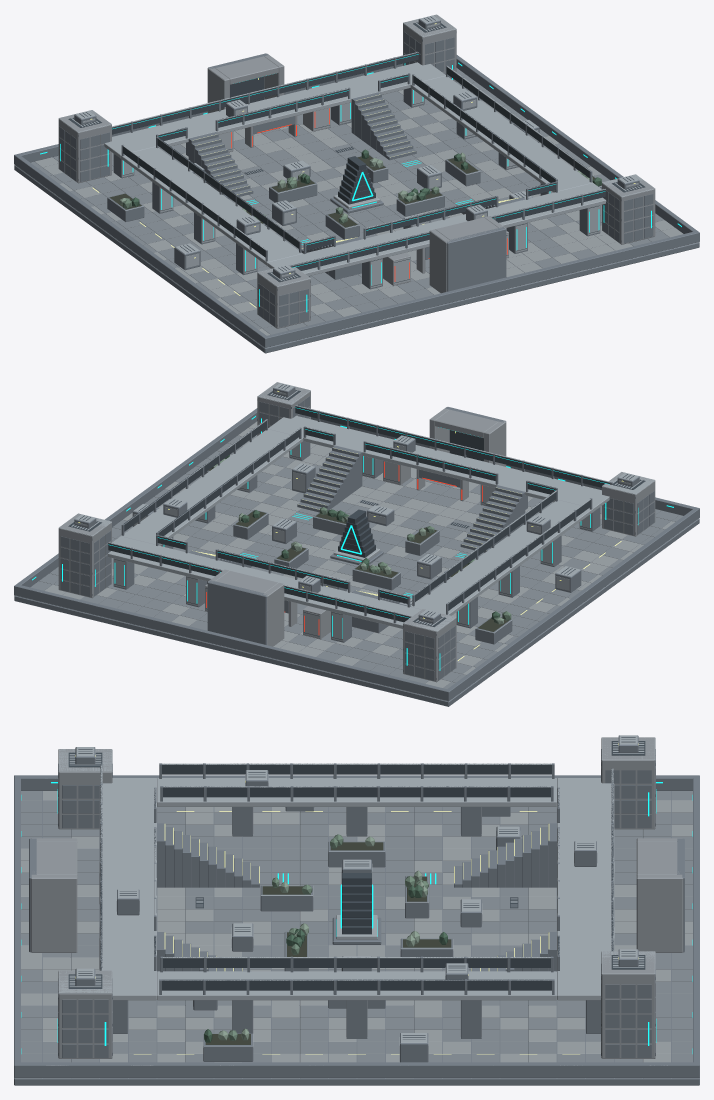
File: mirror-yard.glb
The picture shows the model from 3 angles, top to bottom: view 1: azimuth 30°, elevation 25°; view 2: azimuth 150°, elevation 25°; view 3: azimuth 270°, elevation 25°; orthographic projection. The views are drawn at different scales.
Visible parts, largest first — view 1: Detail batch | Paving | blue gray, Detail batch | Paving | pale, Detail batch | Panel | alloy, Detail batch | Wall | slate steel, roof-walk-z-1, boundary-z1, yard-foundation, roof-walk-z1, roof-walk-x-1, roof-walk-x1, boundary-x-1, mirror alcove back1 (+25 smaller); view 2: Detail batch | Paving | blue gray, Detail batch | Paving | pale, Detail batch | Panel | alloy, Detail batch | Wall | slate steel, roof-walk-z1, boundary-z-1, yard-foundation, roof-walk-z-1, roof-walk-x-1, roof-walk-x1, boundary-x-1, mirror alcove back-1 (+25 smaller); view 3: Detail batch | Paving | blue gray, Detail batch | Paving | pale, Detail batch | Panel | alloy, roof-walk-z1, boundary-x1, roof-walk-z-1, Detail batch | Wall | slate steel, yard-foundation, roof-walk-x1, roof-walk-x-1, outer-x1 guard, inner-x-1 guard (+36 smaller).
Boxes of the visible parts, bbox=[...] form: Detail batch | Paving | blue gray: bbox=[14, 68, 681, 347]; Detail batch | Paving | pale: bbox=[34, 89, 699, 340]; Detail batch | Panel | alloy: bbox=[28, 14, 655, 291]; Detail batch | Wall | slate steel: bbox=[59, 32, 653, 327]; roof-walk-z-1: bbox=[104, 62, 445, 158]; boundary-z1: bbox=[267, 231, 697, 346]; yard-foundation: bbox=[14, 84, 699, 353]; roof-walk-z1: bbox=[267, 183, 606, 276]; roof-walk-x-1: bbox=[120, 146, 302, 265]; roof-walk-x1: bbox=[410, 76, 592, 192]; boundary-x-1: bbox=[14, 154, 268, 347]; mirror alcove back1: bbox=[447, 227, 506, 291]; Detail batch | Paving | blue gray: bbox=[14, 435, 699, 701]; Detail batch | Paving | pale: bbox=[44, 421, 688, 696]; Detail batch | Panel | alloy: bbox=[41, 382, 655, 644]; Detail batch | Wall | slate steel: bbox=[60, 396, 654, 680]; roof-walk-z1: bbox=[268, 415, 609, 511]; boundary-z-1: bbox=[16, 585, 448, 700]; yard-foundation: bbox=[14, 435, 699, 706]; roof-walk-z-1: bbox=[107, 536, 420, 628]; roof-walk-x-1: bbox=[411, 500, 593, 615]; roof-walk-x1: bbox=[121, 429, 303, 545]; boundary-x-1: bbox=[444, 507, 699, 701]; mirror alcove back-1: bbox=[207, 580, 266, 644]; Detail batch | Paving | blue gray: bbox=[21, 791, 699, 1078]; Detail batch | Paving | pale: bbox=[14, 791, 692, 1078]; Detail batch | Panel | alloy: bbox=[46, 735, 682, 1065]; roof-walk-z1: bbox=[99, 778, 156, 1000]; boundary-x1: bbox=[14, 1062, 699, 1077]; roof-walk-z-1: bbox=[557, 778, 614, 1000]; Detail batch | Wall | slate steel: bbox=[58, 749, 655, 1057]; yard-foundation: bbox=[14, 791, 699, 1085]; roof-walk-x1: bbox=[157, 971, 556, 1000]; roof-walk-x-1: bbox=[157, 778, 556, 806]; outer-x1 guard: bbox=[162, 979, 551, 990]; inner-x-1 guard: bbox=[163, 786, 550, 797].
Size of the model in its own units: 48 by 7.89 by 48.
